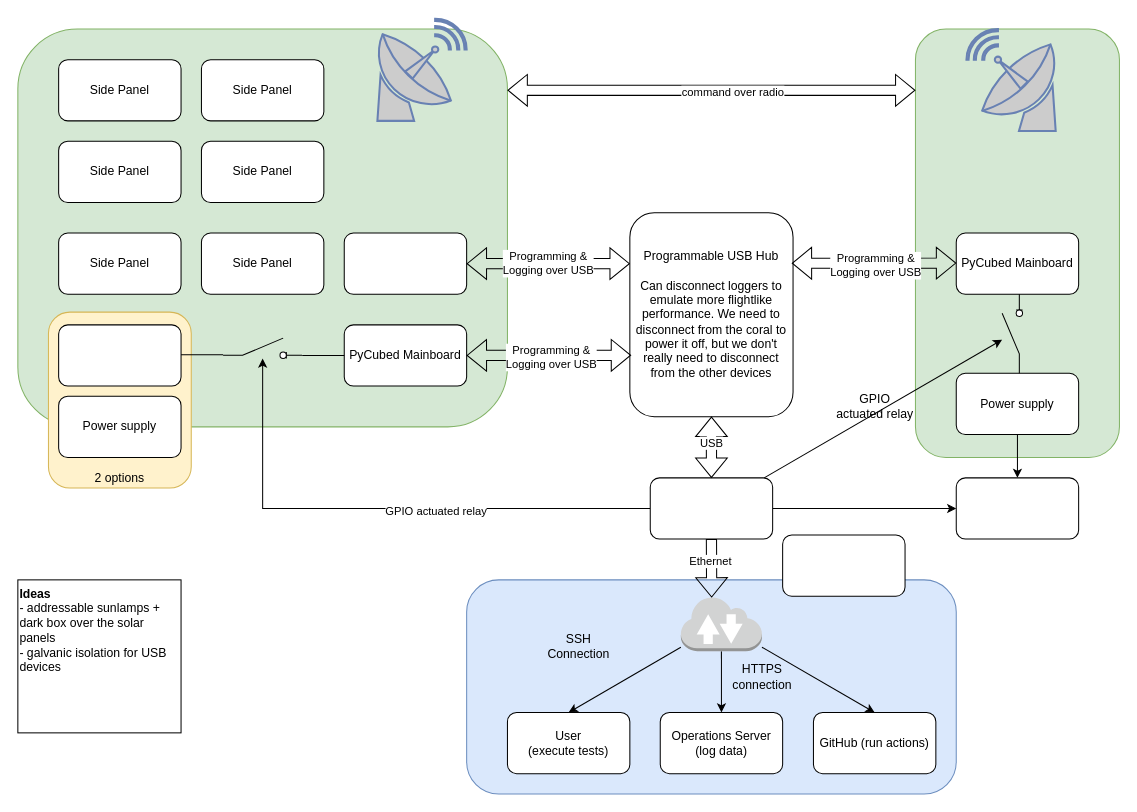
Some shapes in this 1137 by 812 pixel diagram are drawn without their labels. Here are the shapes that lost their labels. From the top down, the box of each, then its label:
(17, 28, 507, 427): FlatSat
(914, 28, 1119, 457): FlatGS
(343, 232, 467, 294): Coral
(58, 324, 181, 386): PyCubed Battery Board
(649, 477, 773, 539): Raspberry Pi
(955, 477, 1079, 539): Wall outlet
(782, 534, 905, 596): SD Card Logging
(466, 579, 956, 794): Software
